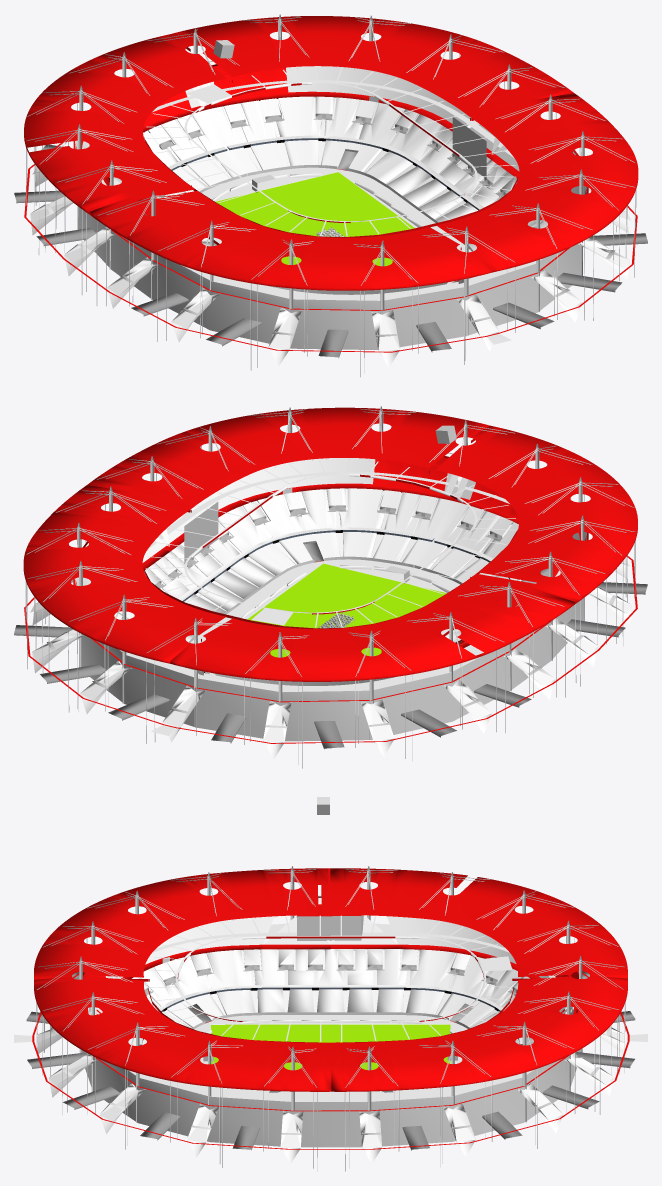
File: stade.glb
3 renders of one model, top to bottom at view 1: azimuth 30°, elevation 25°; view 2: azimuth 150°, elevation 25°; view 3: azimuth 270°, elevation 25°, orthographic. The views are drawn at different scales.
Visible parts, largest first — view 1: STADE.1-_1, Plane; view 2: STADE.1-_1, Plane; view 3: STADE.1-_1.
Part boxes in pixels (bbox=[...]): STADE.1-_1: bbox=[14, 14, 647, 377]; Plane: bbox=[452, 117, 486, 178]; STADE.1-_1: bbox=[14, 406, 647, 768]; Plane: bbox=[184, 501, 218, 563]; STADE.1-_1: bbox=[14, 866, 647, 1171].
Size of the model in its own units: 2.83 by 1.27 by 3.37.
